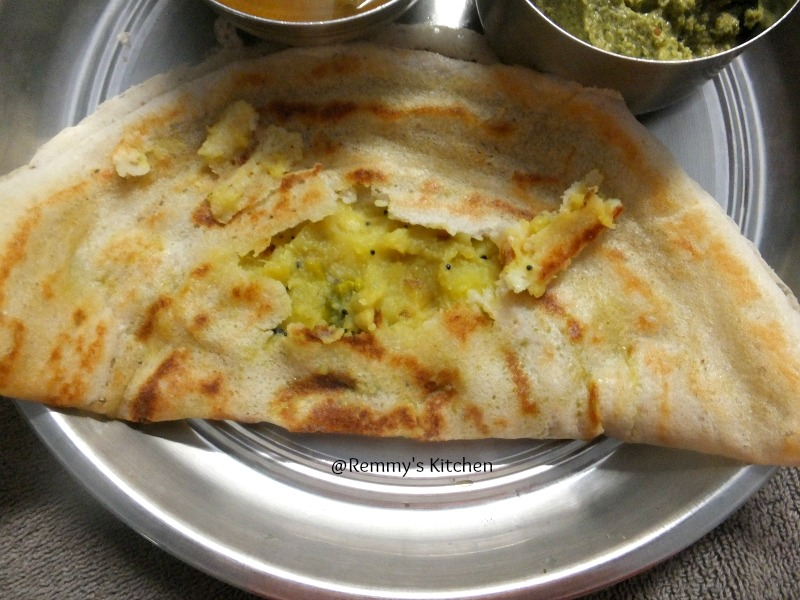dosa: (1, 41, 795, 478)
